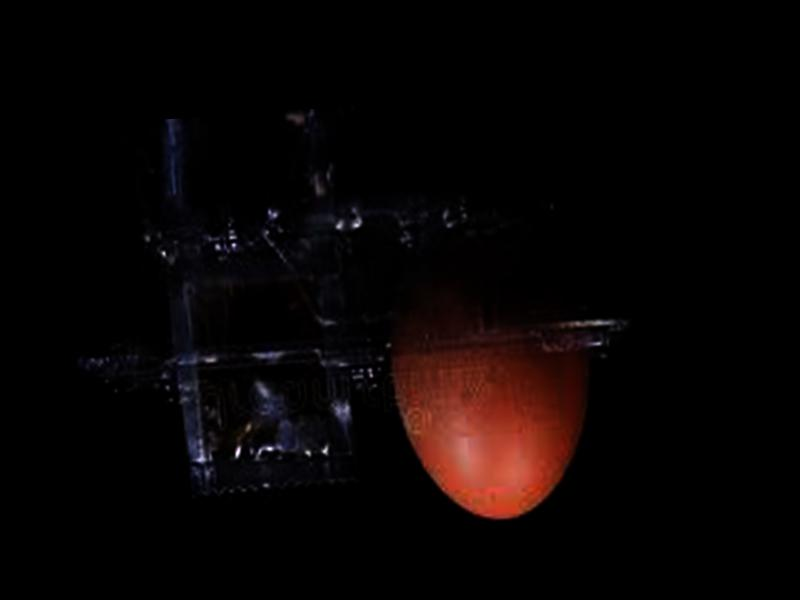Eggs: (383, 217, 604, 526)
